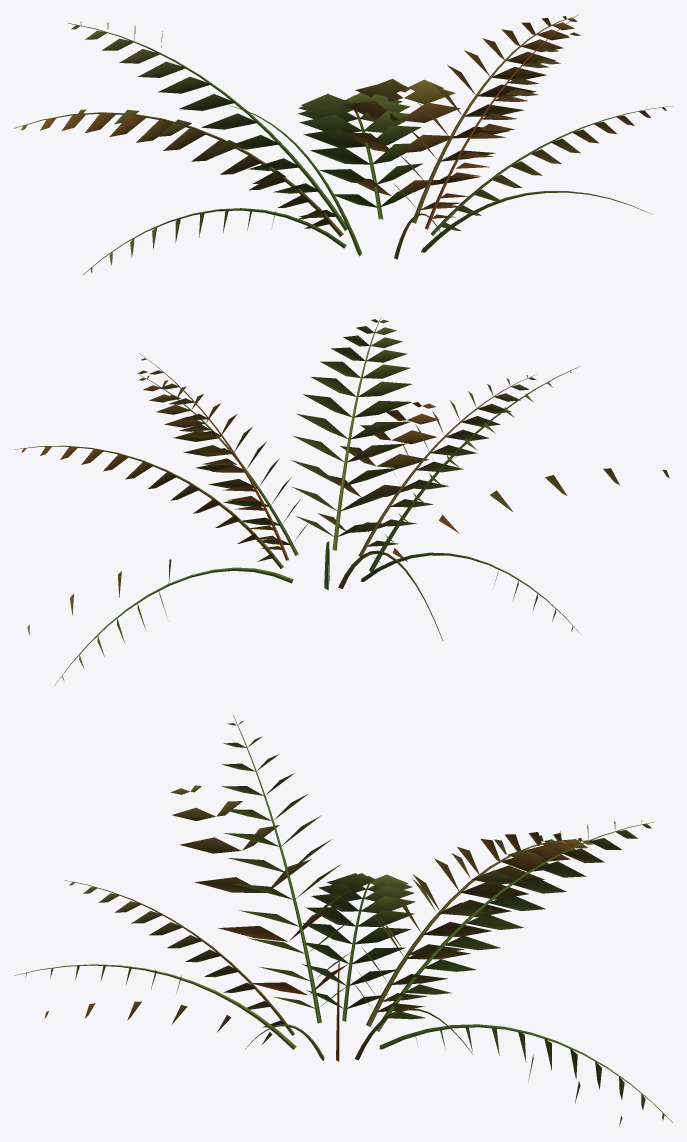
Rendered from bracken.glb.
3 renders of one model, top to bottom at view 1: azimuth 30°, elevation 25°; view 2: azimuth 150°, elevation 25°; view 3: azimuth 270°, elevation 25°, orthographic. The views are drawn at different scales.
Parts seen in each view (by area): view 1: bracken, bracken-lo; view 2: bracken, bracken-lo; view 3: bracken, bracken-lo.
Part boxes in pixels (x1,y1,x2,y2): bracken: (14,14,672,275); bracken-lo: (75,32,580,219); bracken: (14,317,580,685); bracken-lo: (27,370,669,635); bracken: (14,715,672,1122); bracken-lo: (44,785,622,1126).
Bounding box in the file's own units: 1.96 × 0.8618 × 2.06.
